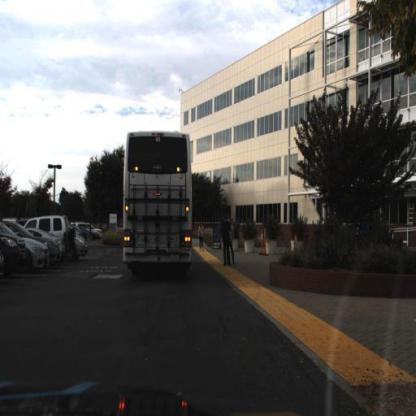car: (32, 212, 78, 255), (3, 226, 30, 276), (42, 214, 76, 244), (6, 234, 27, 276), (27, 235, 51, 271), (75, 220, 108, 243), (71, 231, 89, 266), (77, 229, 91, 261), (48, 241, 62, 266)
pedestrian: (406, 197, 416, 267), (221, 214, 233, 267), (196, 217, 208, 256), (230, 219, 238, 267), (312, 213, 329, 234)
truck: (120, 125, 197, 282)
